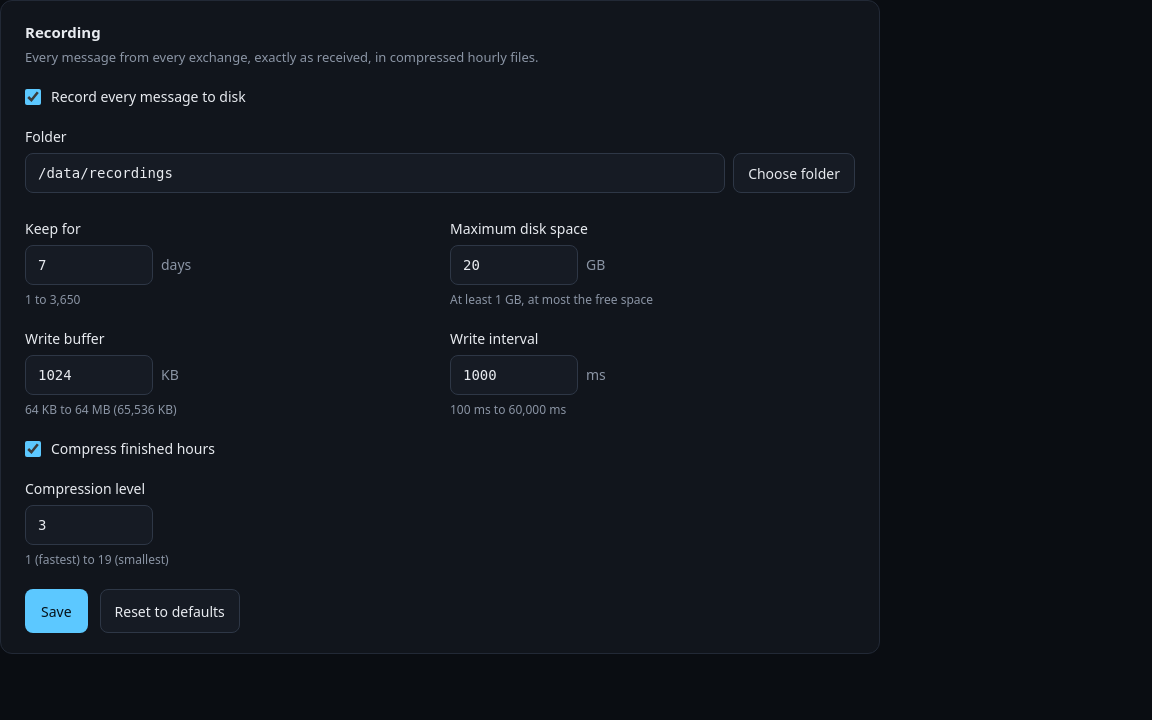
Test: RecordingSettingsForm › does not send text that is not a number
Replace the text in the field labelled "Write interval" with "fast": x=514, y=375 [450,355,578,395]
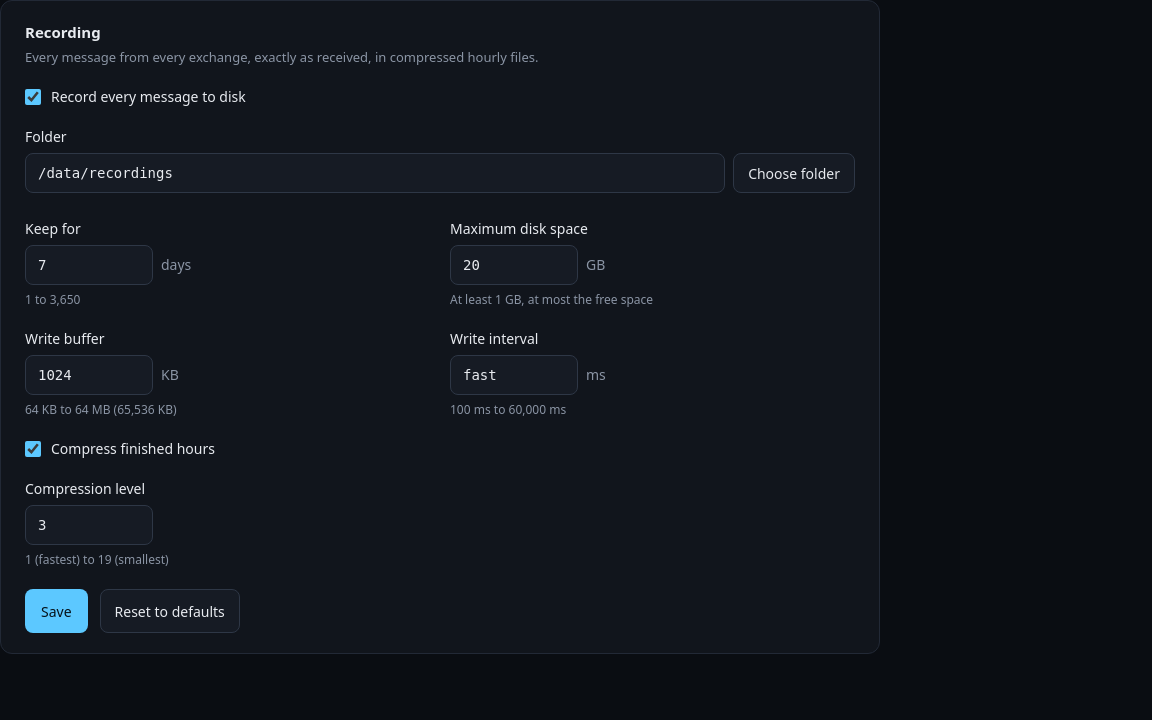
Click the button "Save": x=56, y=611 [25,589,88,633]
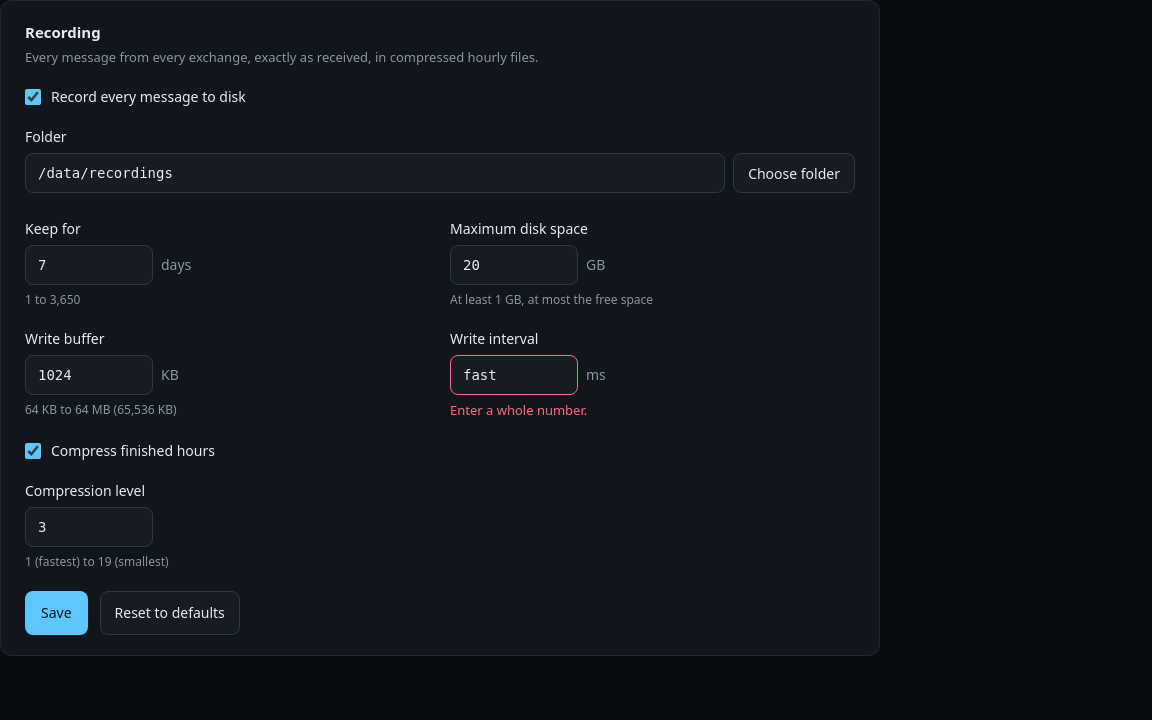
Result: the text "Enter a whole number." is shown at [450,401,587,419]
